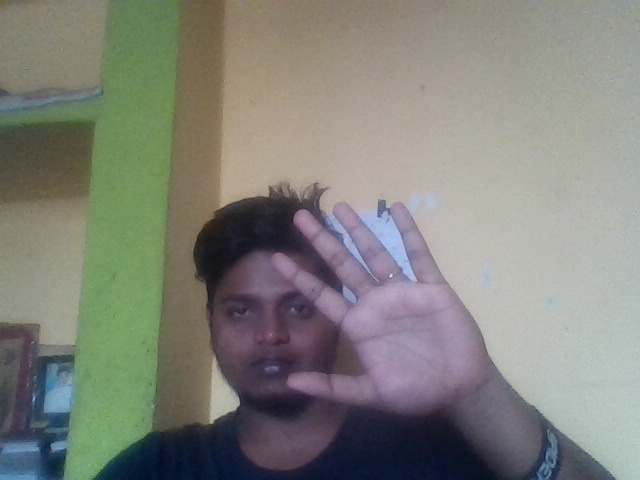Hello: (268, 199, 514, 422)
